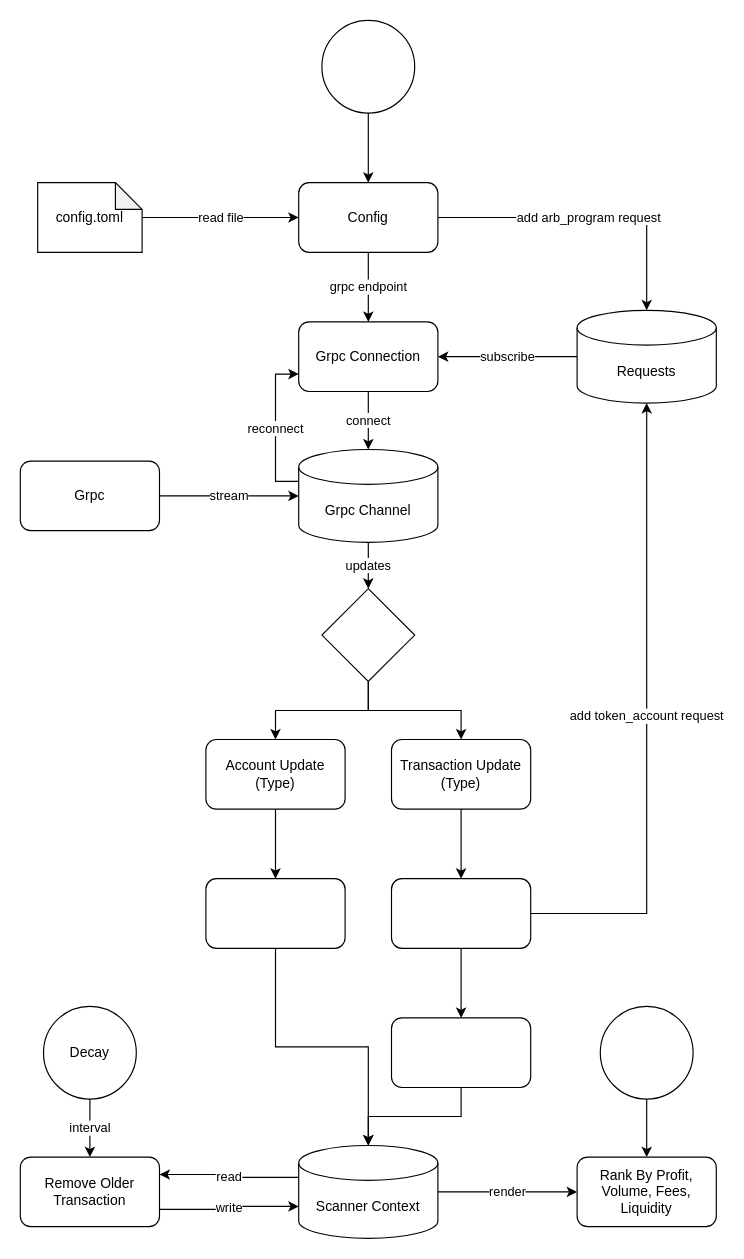
Image size: 744x1259. Some labels were removed from this diagram. The centre of each missing label's shape, as x and y in pixels:
"Dashboard" belongs at (646,1052).
"Parse Dex Instruction" belongs at (460,1052).
"Parse Mint Liqudity" belongs at (275,913).
"Parse Token Accounts" belongs at (460,913).
"Scanner" belongs at (368,66).
"Update Type" belongs at (368,635).
